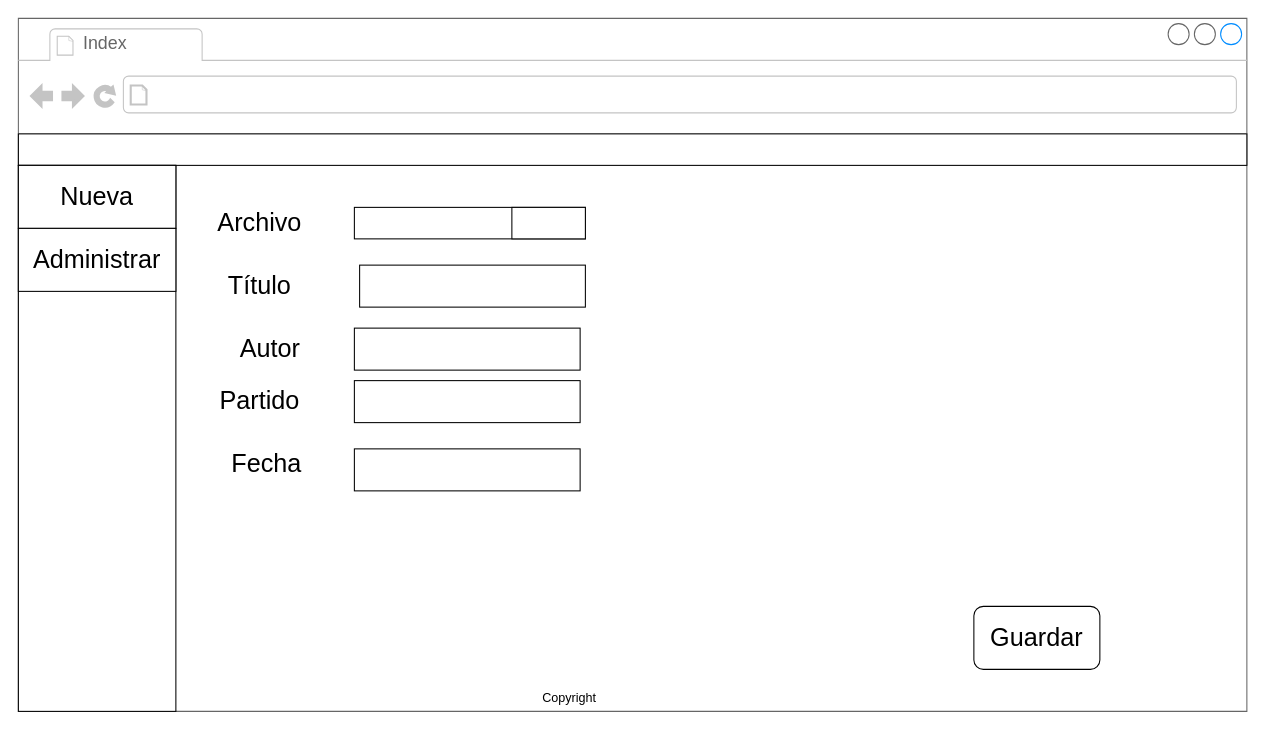
Image size: 1265x730. Some labels were removed from this diagram. The shapes that lost their labels are listed below. From the top down, each one's box as (x1, y1, x2, y2) in pixels, then its label:
(154, 80, 417, 109): https://www.nuestraspropuestas.mx/admin
(17, 133, 1247, 165): Administrador
